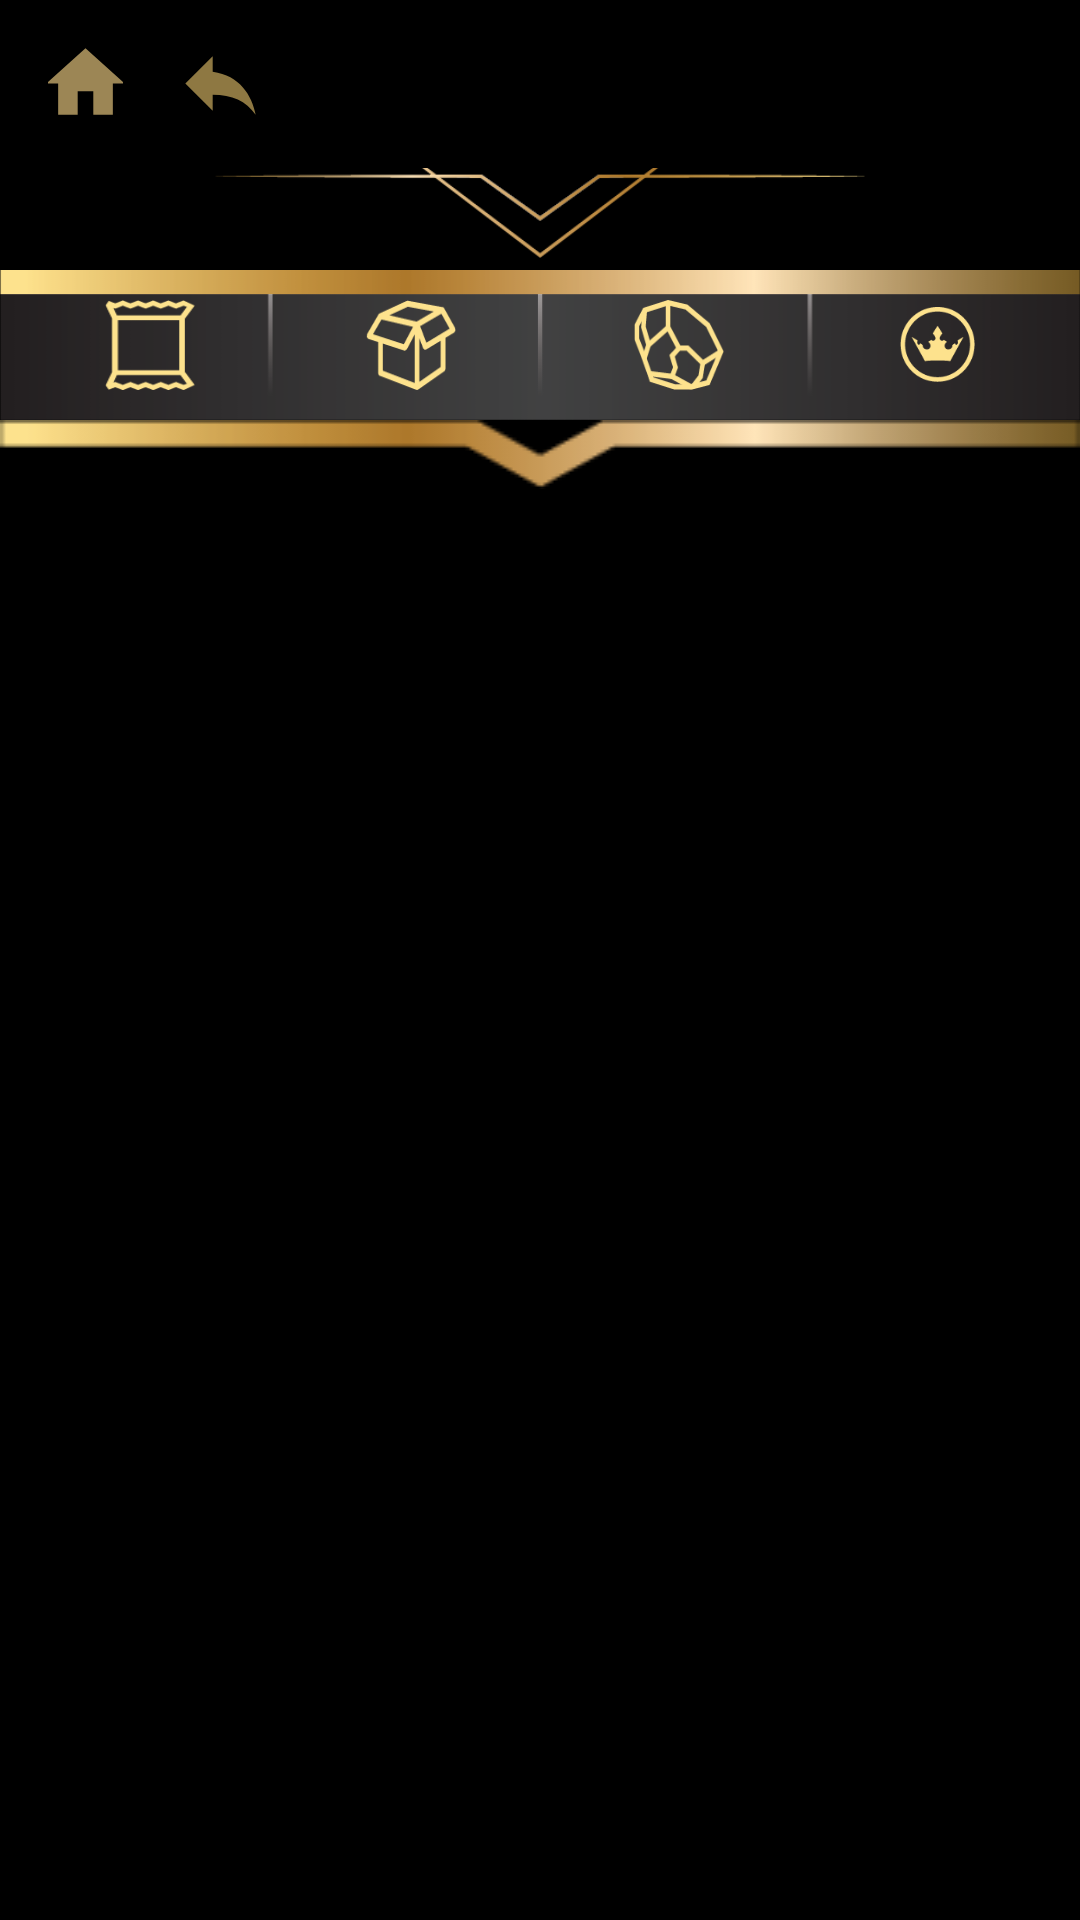

Named icons in this screenshot (1080px x 1920px) and their bounding boxes, (x1, y1, x2, y2):
backnv: (185, 56, 256, 114)
homenv: (48, 48, 123, 115)
loja caixa: (366, 300, 456, 390)
loja coroa: (900, 307, 975, 382)
loja ouro: (634, 300, 724, 390)
loja pacote: (105, 300, 195, 390)
